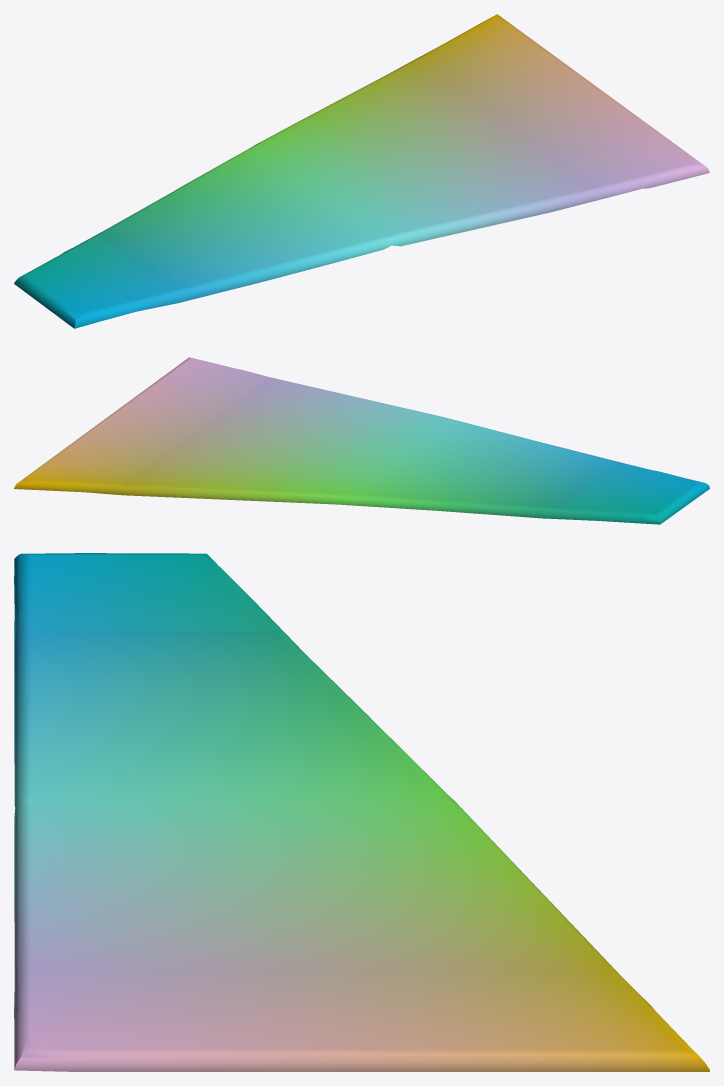
File: SM_ROAD_37_5_22_37_buffer.FBX
The picture shows the model from 3 angles, top to bottom: view 1: azimuth 30°, elevation 25°; view 2: azimuth 150°, elevation 25°; view 3: azimuth 270°, elevation 25°; orthographic projection. The views are drawn at different scales.
Parts seen in each view (by area): view 1: SM_ROAD_37_5_22_37_buffer; view 2: SM_ROAD_37_5_22_37_buffer; view 3: SM_ROAD_37_5_22_37_buffer.
Boxes of the visible parts, x1,y1,x2,y2 form: SM_ROAD_37_5_22_37_buffer: (14,14,709,328); SM_ROAD_37_5_22_37_buffer: (14,357,709,524); SM_ROAD_37_5_22_37_buffer: (14,553,709,1071).
Size of the model in its own units: 3704 by 2143 by 67.5.
